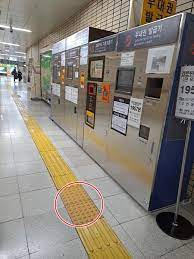guide_blocks: (35, 190, 130, 259), (24, 128, 60, 191), (12, 98, 38, 128)
